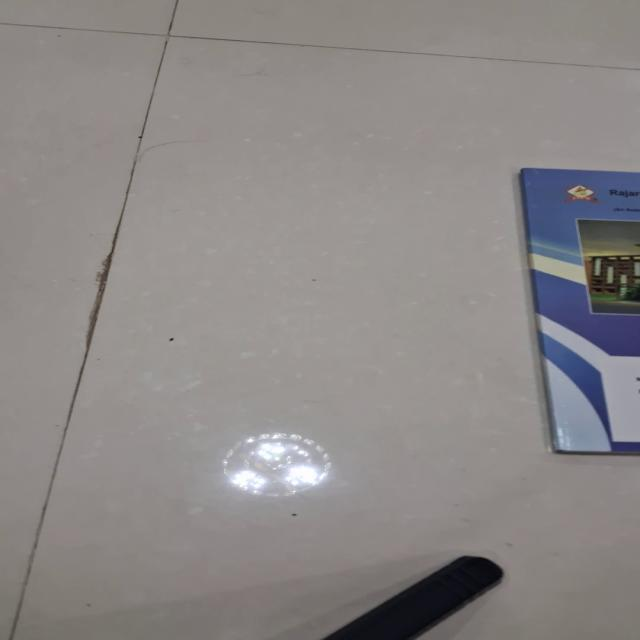paper: (518, 167, 639, 455)
